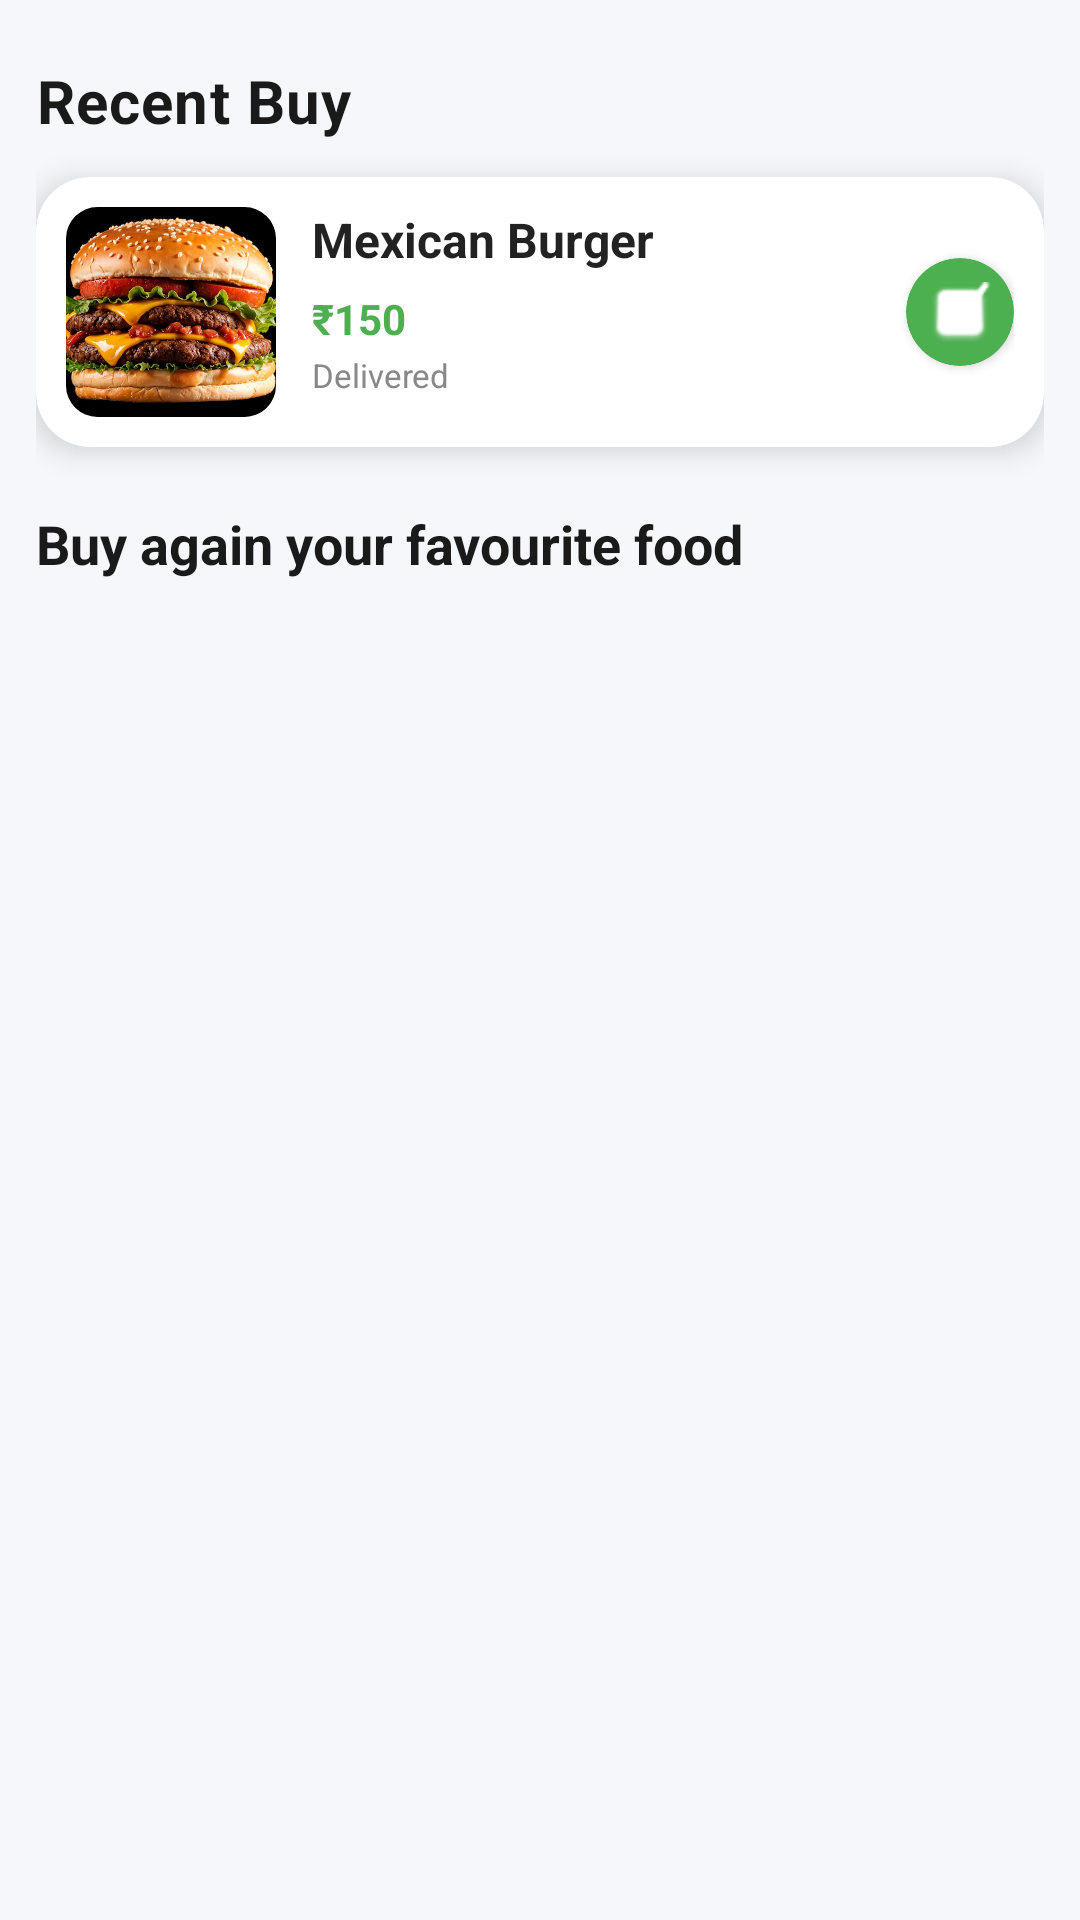

Locate icon controls on the screen. Image size 1080x1920, boxes as bbox=(x1, y1, x2, y2).
burger cart: bbox=(66, 207, 276, 417)
